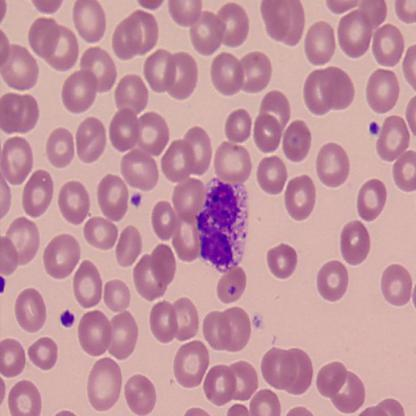Basophil: (193, 178, 247, 276)
